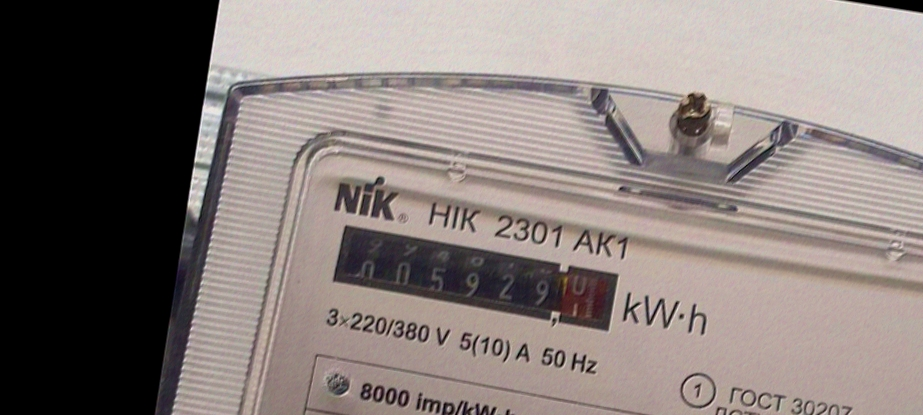0: (390, 259, 413, 290), (354, 256, 378, 281), (566, 274, 589, 299)
2: (493, 270, 516, 306)
5: (424, 265, 446, 295)
9: (528, 277, 552, 312), (457, 269, 482, 302), (363, 237, 383, 257)
screen: (322, 220, 626, 343)
